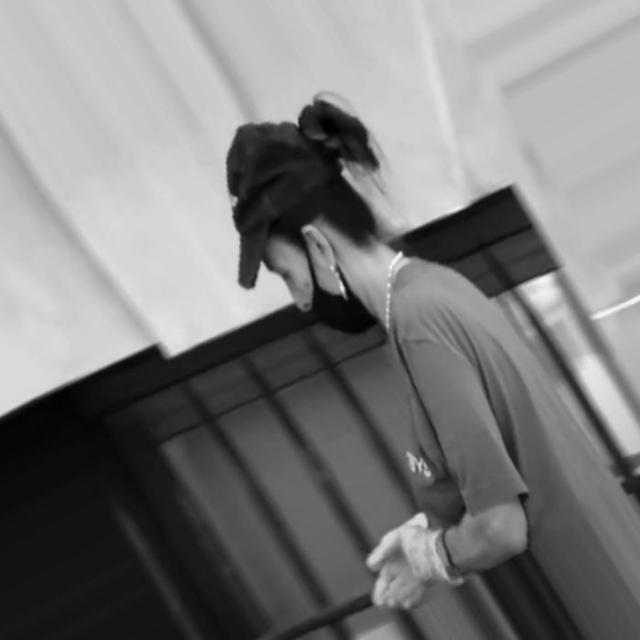hairnet: (268, 235, 376, 332)
